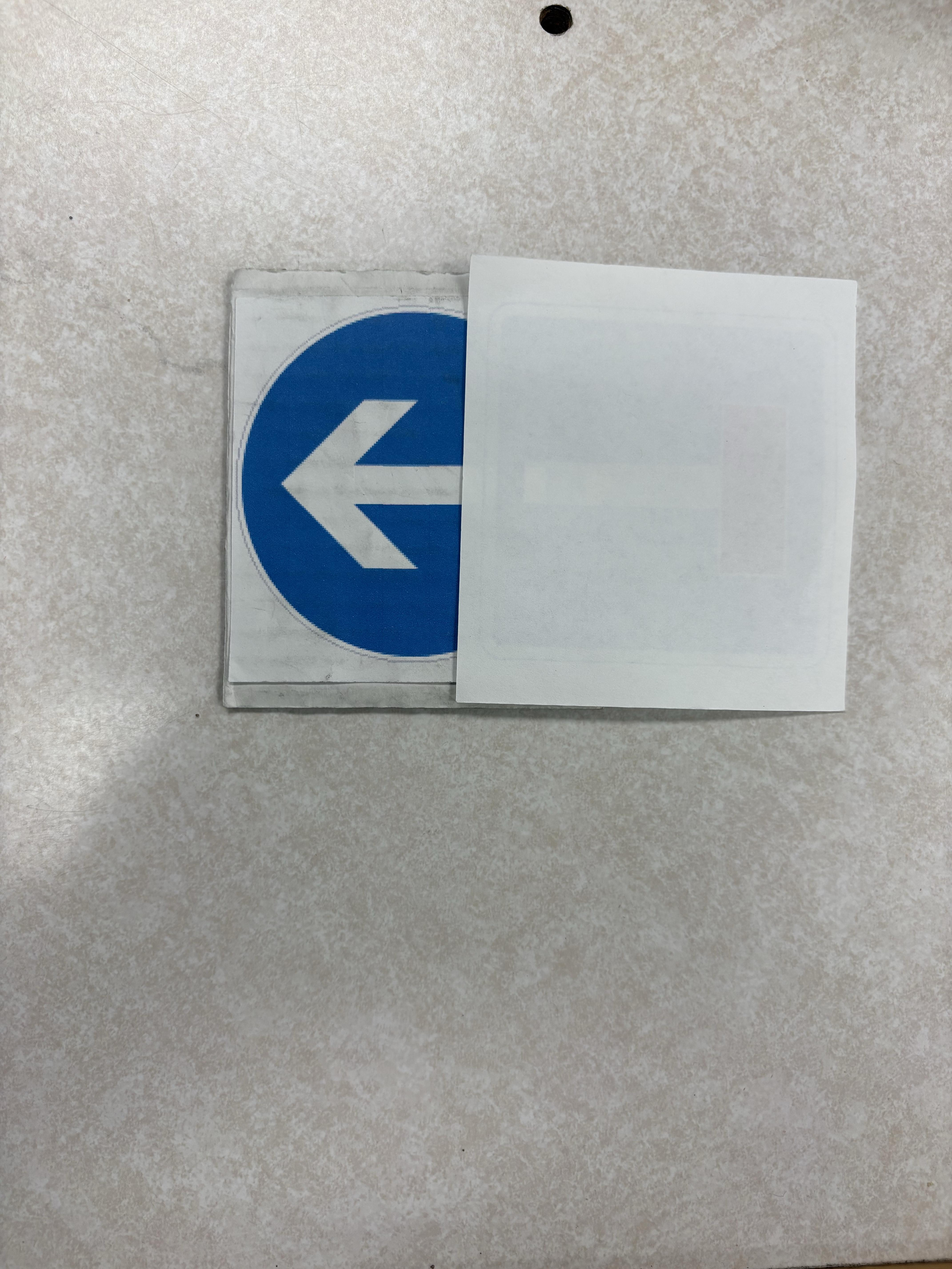Proceed Left: (165, 341, 354, 954)
